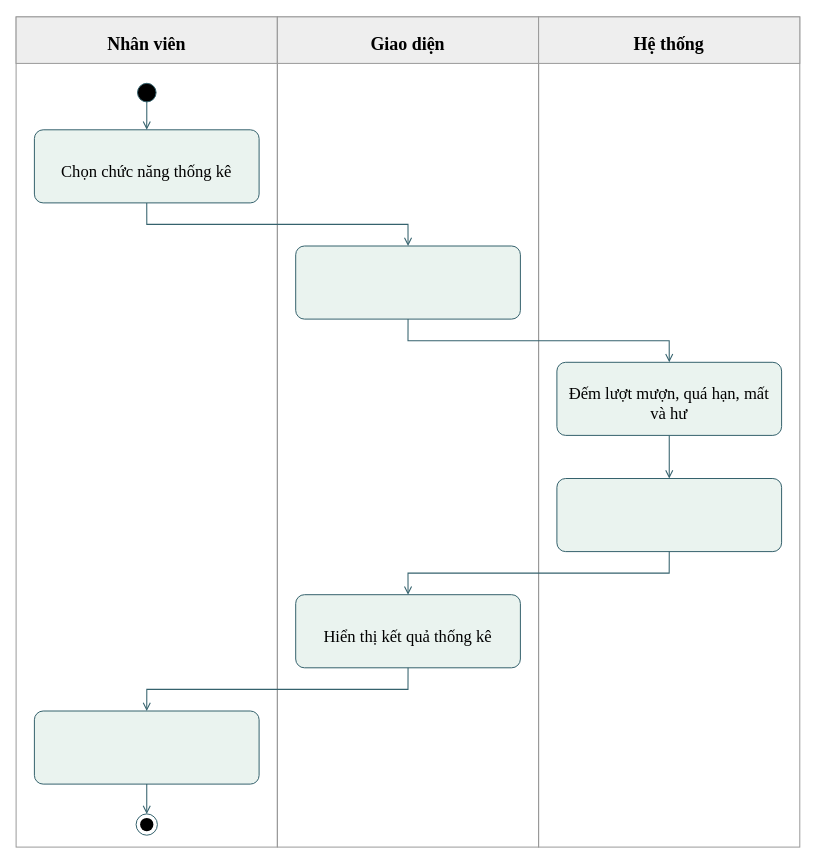
This 816x864 diagram has some shape labels left out. Each missing label, with the box of its shape:
Chọn khoảng ngày và tra cứu: (295, 245, 520, 319)
Tổng hợp phí và chi tiết phiếu phạt: (556, 478, 782, 552)
Xem kết quả hoặc chọn khoảng khác: (33, 710, 259, 784)
